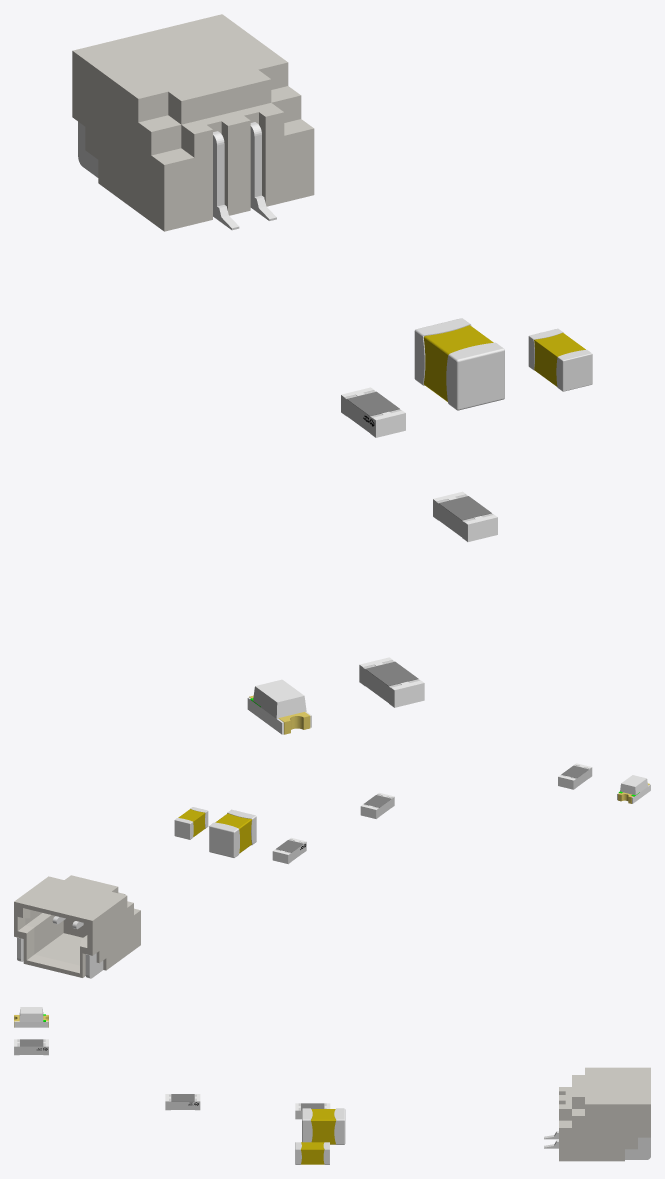
The model's file is r8-parts-2.glb.
The picture shows the model from 3 angles, top to bottom: view 1: azimuth 30°, elevation 25°; view 2: azimuth 150°, elevation 25°; view 3: azimuth 270°, elevation 25°; orthographic projection. The views are drawn at different scales.
Visible parts, largest first — view 1: J2, C8, C9, LED1, R4, R9, R8; view 2: J2, C8, C9, LED1, R4, R9, R8; view 3: J2, C8, C9, LED1, R9, R4, R8.
Part boxes in pixels (x1,y1,x2,y2): J2: (72,14,314,231); C8: (414,318,504,410); C9: (528,328,592,391); LED1: (247,679,311,734); R4: (359,657,424,707); R9: (433,491,497,541); R8: (341,387,405,437); J2: (14,875,140,978); C8: (209,809,256,857); C9: (174,807,208,839); LED1: (617,775,650,803); R4: (558,763,592,789); R9: (360,792,394,818); R8: (272,837,306,864); J2: (544,1067,650,1161); C8: (302,1108,345,1144); C9: (295,1142,329,1164); LED1: (14,1007,48,1027); R9: (165,1094,200,1110); R4: (14,1039,48,1055); R8: (295,1103,330,1119).
Size of the model in its own units: 15.8 by 2.91 by 29.45.
